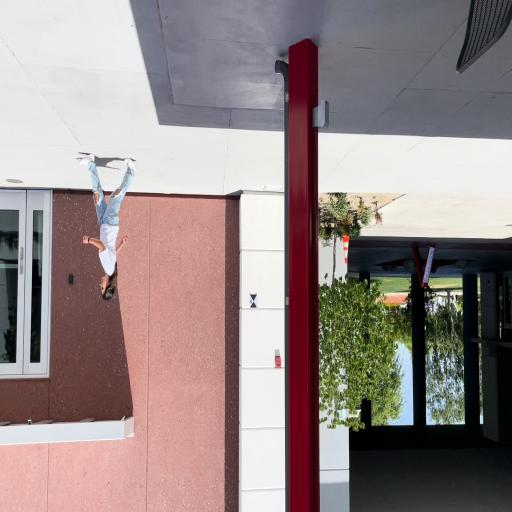target9: (250, 294, 258, 309)
